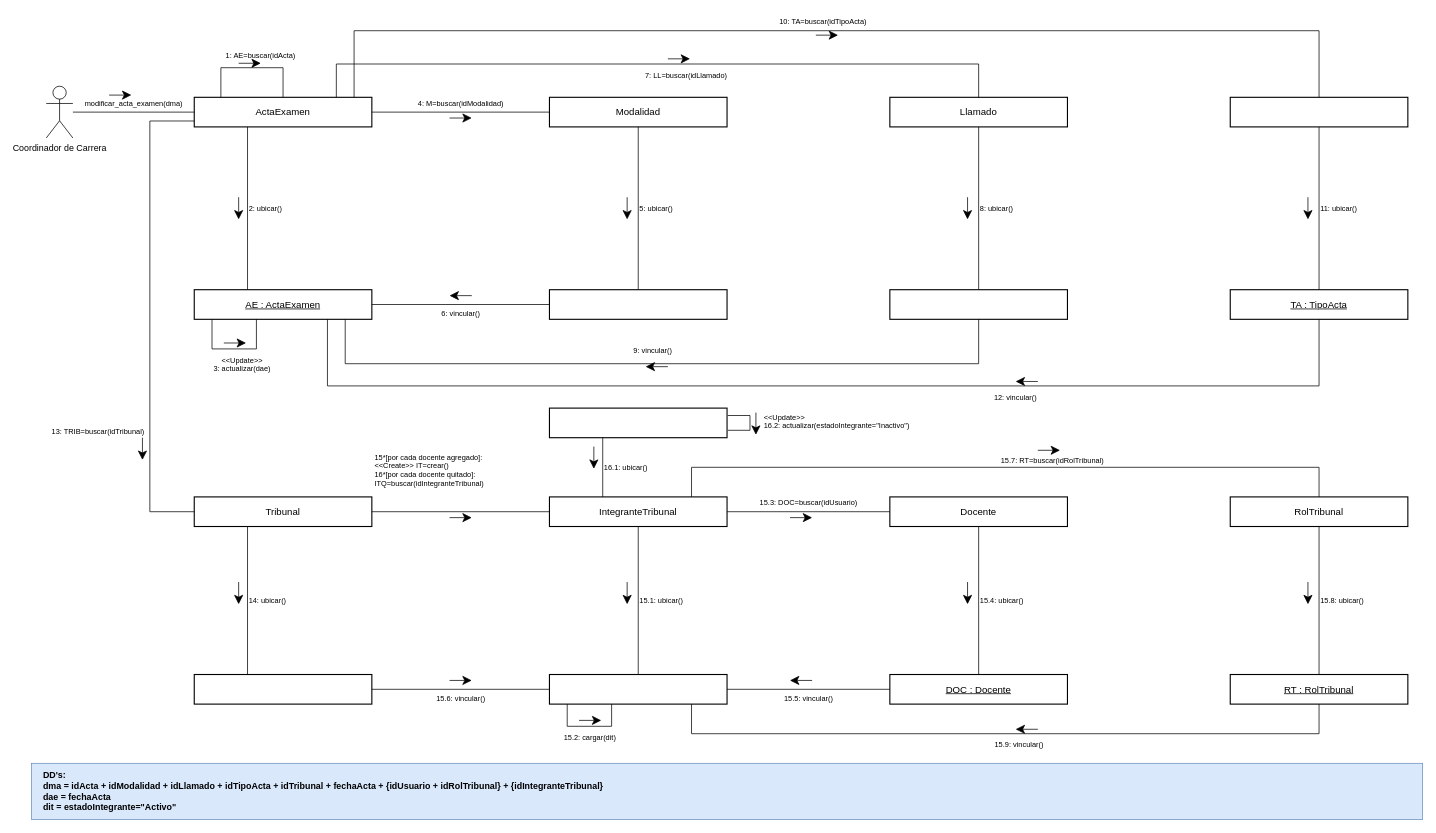
This 1436x833 diagram has some shape labels left out. The shapes that lost their labels are listed below. From the top down, each one's centre as x and y in pixels, then its label:
At (x=1318, y=111): "TipoActa".
At (x=638, y=304): "M : Modalidad".
At (x=978, y=304): "LL : Llamado".
At (x=638, y=422): "ITQ : IntegranteTribunal".
At (x=282, y=689): "TRIB : Tribunal".
At (x=638, y=689): "IT : IntegranteTribunal".
